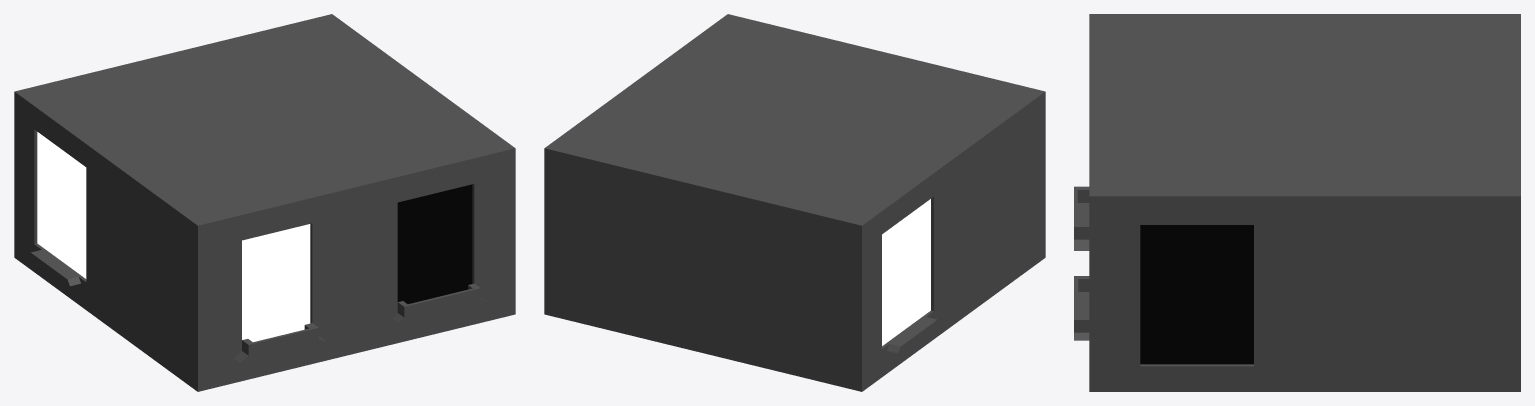
Rendered from Immeuble1Milieu2.fbx.
3 renders of one model, left to right at view 1: azimuth 30°, elevation 25°; view 2: azimuth 150°, elevation 25°; view 3: azimuth 270°, elevation 25°, orthographic. The views are drawn at different scales.
Visible parts, largest first — view 1: Cube.024; view 2: Cube.024; view 3: Cube.024.
Boxes of the visible parts, x1,y1,x2,y2 form: Cube.024: (14,14,515,391); Cube.024: (544,14,1045,391); Cube.024: (1074,14,1520,391).
Bounding box in the file's own units: 2071 × 1000 × 2071.
